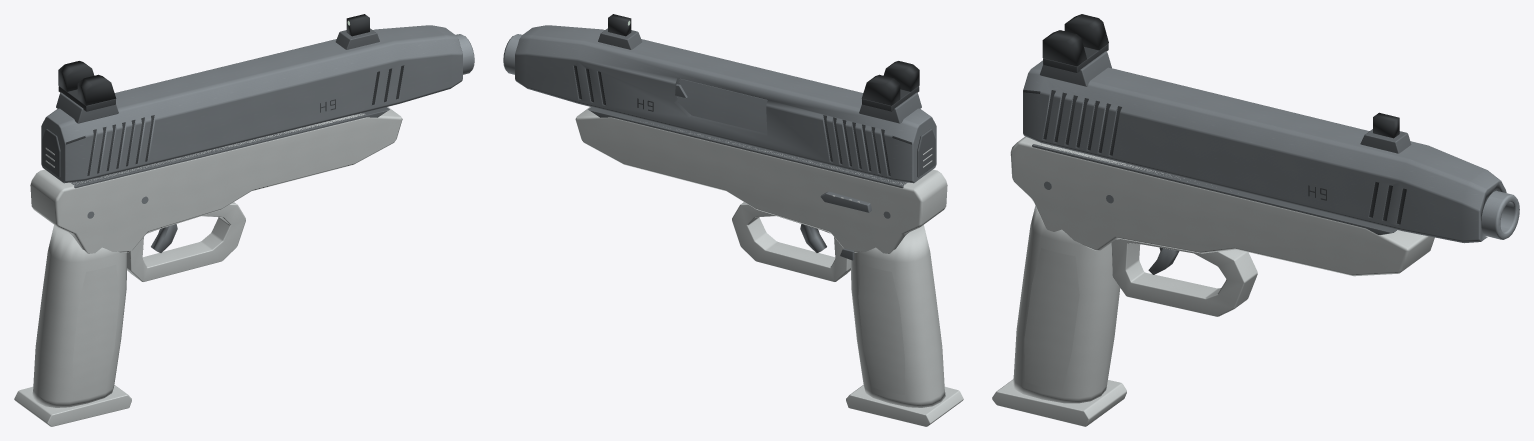
Rendered from pistol.glb.
The picture shows the model from 3 angles, left to right: view 1: azimuth 30°, elevation 25°; view 2: azimuth 150°, elevation 25°; view 3: azimuth 330°, elevation 25°; orthographic projection. The views are drawn at different scales.
Parts seen in each view (by area): view 1: pistol-slide, pistol-frame, pistol-canted-grip, 08-grip-inset-panel-1, 09-open-trigger-guard, 11-magazine-heel, 06-frame-slide-rail-reveal, 22-rear-sight-ear-1, 20-rear-dovetail-base, 22-rear-sight-ear--1, 14-closed-striker-backplate, 23-front-dovetail-base (+3 smaller); view 2: pistol-slide, pistol-frame, pistol-canted-grip, 08-grip-inset-panel--1, 09-open-trigger-guard, 02-chamber-inset-block, 11-magazine-heel, 06-frame-slide-rail-reveal, 22-rear-sight-ear--1, 20-rear-dovetail-base, 22-rear-sight-ear-1, 14-closed-striker-backplate (+5 smaller); view 3: pistol-slide, pistol-frame, pistol-canted-grip, 08-grip-inset-panel-1, 09-open-trigger-guard, 11-magazine-heel, 06-frame-slide-rail-reveal, 12-hollow-barrel-crown, 22-rear-sight-ear-1, 22-rear-sight-ear--1, 20-rear-dovetail-base, 23-front-dovetail-base (+2 smaller).
Boxes of the visible parts, x1,y1,x2,y2 form: pistol-slide: [41, 25, 462, 183]; pistol-frame: [30, 107, 402, 253]; pistol-canted-grip: [32, 225, 126, 407]; 08-grip-inset-panel-1: [73, 264, 119, 394]; 09-open-trigger-guard: [127, 202, 245, 281]; 11-magazine-heel: [14, 385, 131, 426]; 06-frame-slide-rail-reveal: [70, 107, 389, 188]; 22-rear-sight-ear-1: [77, 74, 116, 105]; 20-rear-dovetail-base: [56, 92, 118, 123]; 22-rear-sight-ear--1: [58, 61, 94, 91]; 14-closed-striker-backplate: [42, 129, 60, 177]; 23-front-dovetail-base: [335, 28, 379, 49]; pistol-slide: [515, 25, 936, 183]; pistol-frame: [575, 107, 947, 253]; pistol-canted-grip: [851, 225, 945, 407]; 08-grip-inset-panel--1: [858, 264, 904, 394]; 09-open-trigger-guard: [732, 202, 850, 281]; 02-chamber-inset-block: [677, 78, 767, 133]; 11-magazine-heel: [846, 385, 963, 426]; 06-frame-slide-rail-reveal: [588, 107, 907, 188]; 22-rear-sight-ear--1: [861, 74, 900, 105]; 20-rear-dovetail-base: [859, 92, 921, 123]; 22-rear-sight-ear-1: [883, 61, 919, 91]; 14-closed-striker-backplate: [917, 129, 935, 177]; pistol-slide: [1023, 60, 1506, 243]; pistol-frame: [1010, 136, 1434, 276]; pistol-canted-grip: [1012, 206, 1120, 403]; 08-grip-inset-panel-1: [1024, 248, 1079, 390]; 09-open-trigger-guard: [1111, 239, 1257, 316]; 11-magazine-heel: [992, 379, 1126, 426]; 06-frame-slide-rail-reveal: [1032, 144, 1396, 234]; 12-hollow-barrel-crown: [1481, 190, 1519, 239]; 22-rear-sight-ear-1: [1042, 30, 1086, 66]; 22-rear-sight-ear--1: [1064, 14, 1108, 50]; 20-rear-dovetail-base: [1040, 51, 1111, 86]; 23-front-dovetail-base: [1360, 129, 1411, 153].
Bounding box in the file's own units: 0.2887 × 0.2095 × 0.0391.
Materials: 3 (2 with a texture image).
